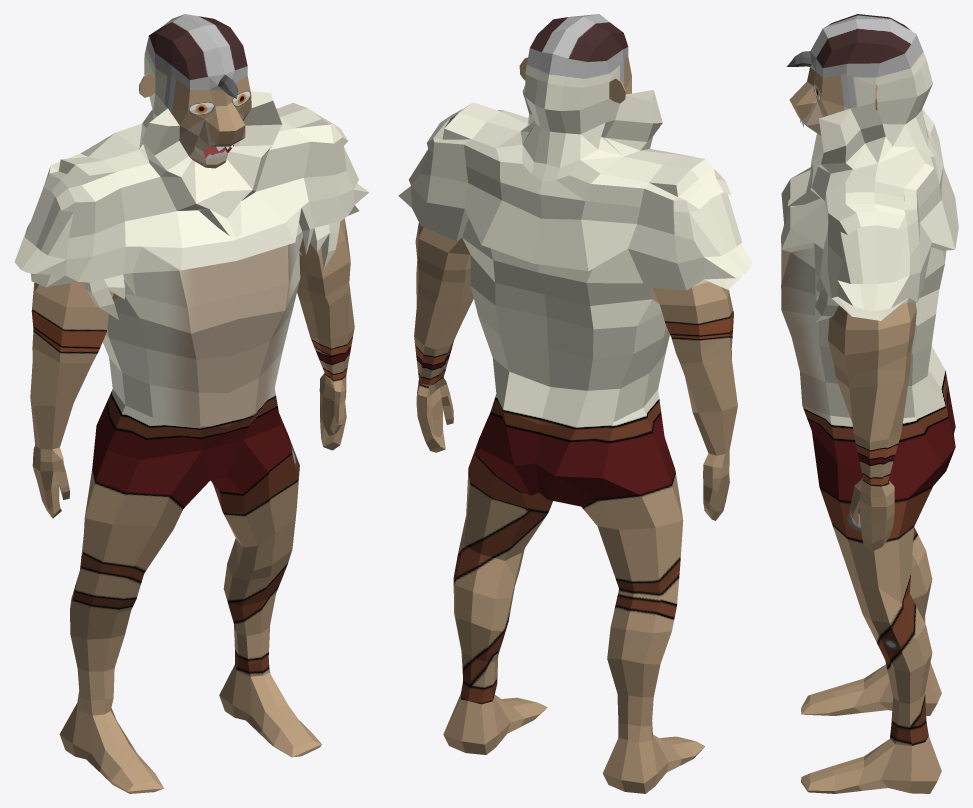
File: monkian.fbx
The picture shows the model from 3 angles, left to right: view 1: azimuth 30°, elevation 25°; view 2: azimuth 150°, elevation 25°; view 3: azimuth 270°, elevation 25°; orthographic projection.
Parts seen in each view (by area): view 1: body; view 2: body; view 3: body.
Part boxes in pixels (x1=…): body: x1=14, y1=14, x2=369, y2=793; body: x1=398, y1=14, x2=752, y2=793; body: x1=781, y1=14, x2=958, y2=793.
Bounding box in the file's own units: 444 × 906 × 200.
1 material, 1 textured.
